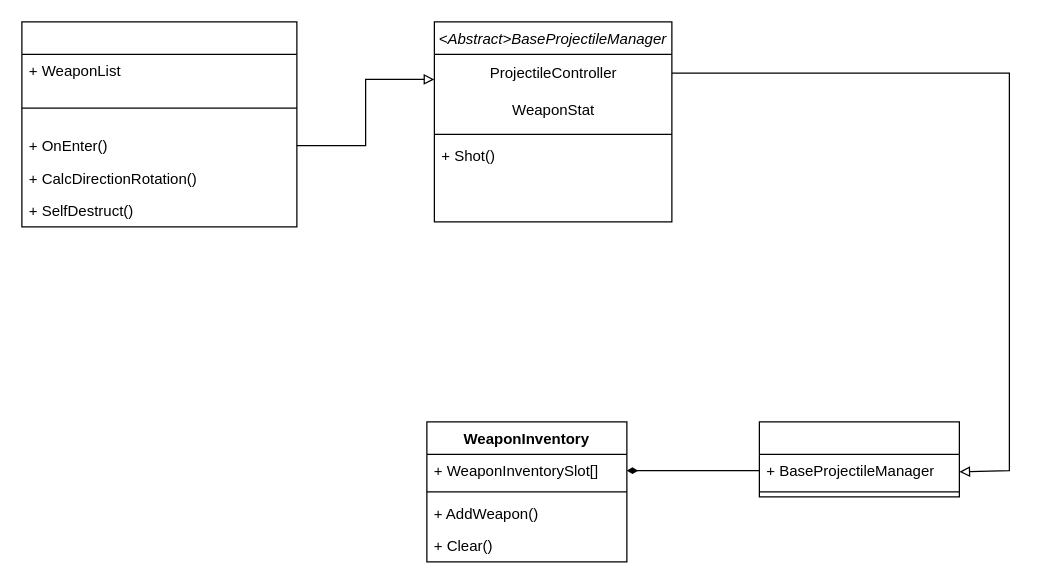
Image size: 1041x588. Some labels were removed from this diagram. The shapes that lost their labels are listed below. From the top down, each one's box as (x1, y1, x2, y2) in pixels, then its label:
(21, 21, 297, 227): <Abstract> ProjectileController
(758, 421, 959, 497): WeaponInventorySlot
